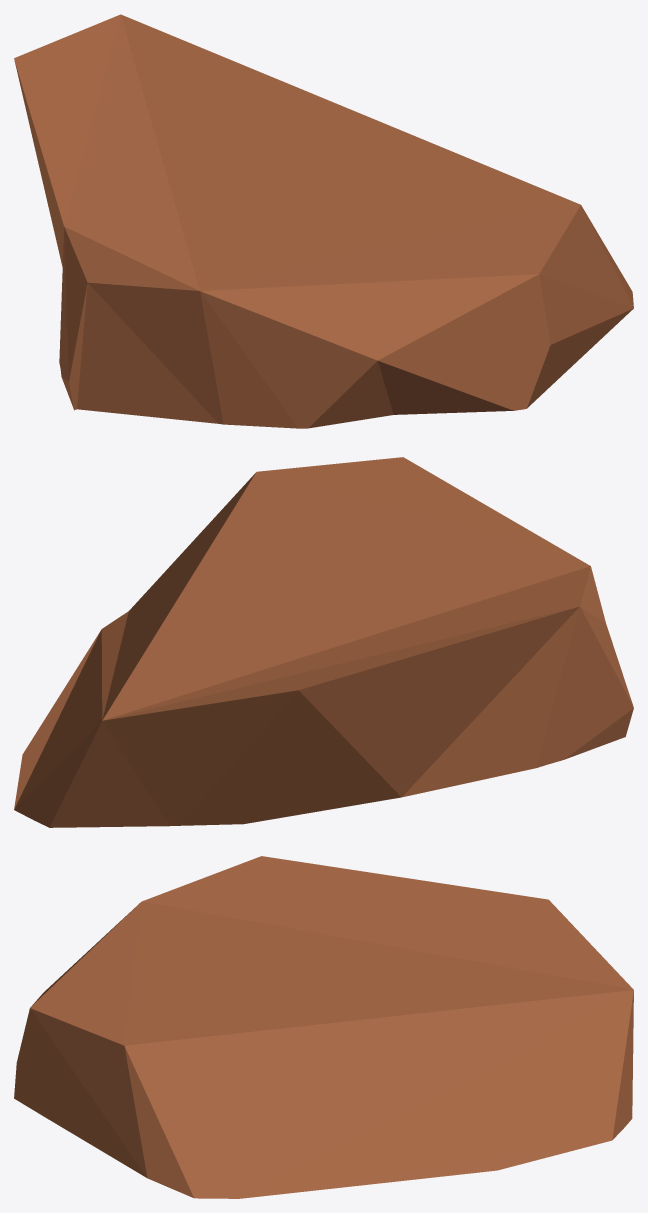
File: SM_pebble.fbx
3 renders of one model, top to bottom at view 1: azimuth 30°, elevation 25°; view 2: azimuth 150°, elevation 25°; view 3: azimuth 270°, elevation 25°, orthographic. The views are drawn at different scales.
Visible parts, largest first — view 1: pebble; view 2: pebble; view 3: pebble.
Boxes of the visible parts, x1,y1,x2,y2 form: pebble: [14, 14, 633, 428]; pebble: [14, 457, 633, 827]; pebble: [14, 856, 633, 1198].
Size of the model in its own units: 163 by 48.5 by 194.
